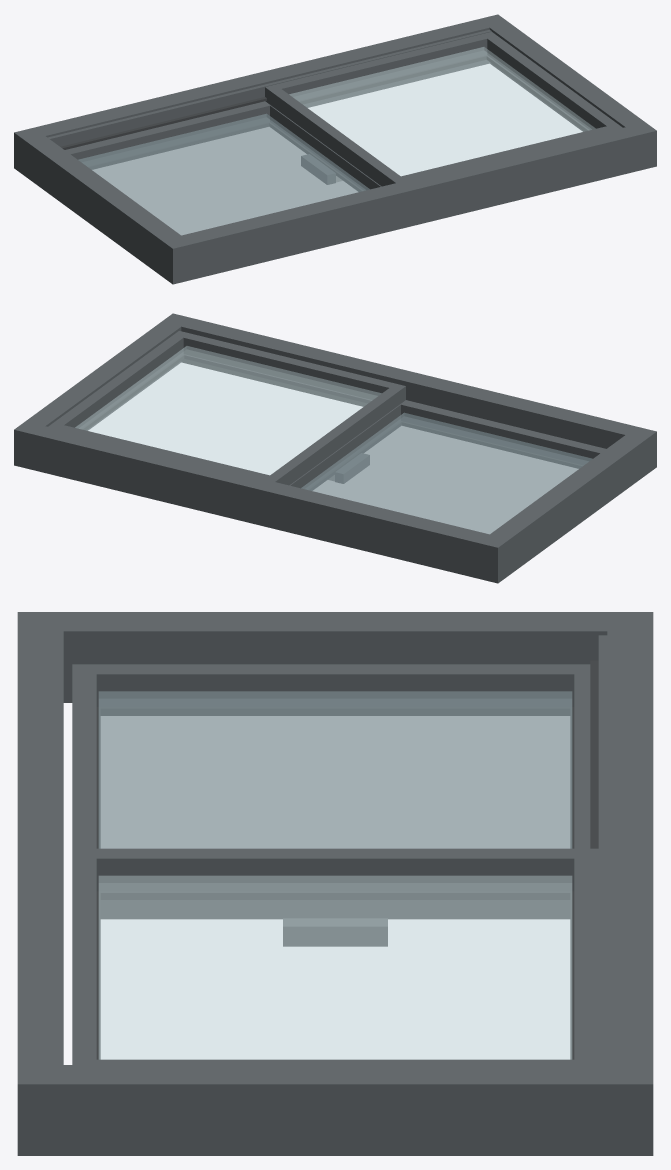
File: sliding-aluminum-window.glb
The picture shows the model from 3 angles, top to bottom: view 1: azimuth 30°, elevation 25°; view 2: azimuth 150°, elevation 25°; view 3: azimuth 270°, elevation 25°; orthographic projection. The views are drawn at different scales.
Parts seen in each view (by area): view 1: outer-top, pane1, pane0, outer-left, outer-bottom, sash1-bottom, sill-base, sash0-bottom, outer-right, sash1-right, sash1-left, sash0-right (+7 smaller); view 2: outer-bottom, pane1, pane0, outer-top, outer-left, sash1-top, sash0-top, outer-right, sash1-right, sash1-left, sash0-right, sash1-bottom (+5 smaller); view 3: pane1, pane0, outer-right, outer-left, outer-top, outer-bottom, sash1-left, sash0-left, sash0-right, sash1-top, sash1-bottom, sash0-top (+9 smaller).
Boxes of the visible parts, x1=… form: outer-top: x1=161, y1=122, x2=656, y2=284; pane1: x1=289, y1=47, x2=595, y2=176; pane0: x1=78, y1=113, x2=369, y2=235; outer-left: x1=25, y1=136, x2=180, y2=275; outer-bottom: x1=14, y1=14, x2=509, y2=176; sash1-bottom: x1=265, y1=32, x2=497, y2=104; sill-base: x1=48, y1=29, x2=491, y2=146; sash0-bottom: x1=65, y1=101, x2=270, y2=166; outer-right: x1=489, y1=23, x2=644, y2=131; sash1-right: x1=487, y1=36, x2=616, y2=129; sash1-left: x1=271, y1=89, x2=400, y2=186; sash0-right: x1=270, y1=105, x2=381, y2=190; outer-bottom: x1=14, y1=421, x2=509, y2=583; pane1: x1=75, y1=346, x2=381, y2=475; pane0: x1=301, y1=412, x2=592, y2=534; outer-top: x1=161, y1=313, x2=656, y2=475; outer-left: x1=490, y1=435, x2=645, y2=574; sash1-top: x1=173, y1=331, x2=405, y2=403; sash0-top: x1=400, y1=400, x2=605, y2=465; outer-right: x1=26, y1=322, x2=181, y2=430; sash1-right: x1=54, y1=335, x2=183, y2=428; sash1-left: x1=270, y1=388, x2=399, y2=485; sash0-right: x1=289, y1=404, x2=400, y2=489; sash1-bottom: x1=48, y1=422, x2=280, y2=483; pane1: x1=98, y1=875, x2=572, y2=1059; pane0: x1=98, y1=691, x2=572, y2=848; outer-right: x1=63, y1=1065, x2=607, y2=1155; outer-left: x1=63, y1=612, x2=607, y2=702; outer-top: x1=17, y1=612, x2=63, y2=1155; outer-bottom: x1=607, y1=612, x2=653, y2=1155; sash1-left: x1=96, y1=848, x2=574, y2=891; sash0-left: x1=96, y1=664, x2=574, y2=706; sash0-right: x1=100, y1=900, x2=570, y2=919; sash1-top: x1=72, y1=848, x2=96, y2=1064; sash1-bottom: x1=574, y1=848, x2=598, y2=1064; sash0-top: x1=72, y1=664, x2=96, y2=848.
Size of the model in its own units: 2.55 by 0.2275 by 1.45.
